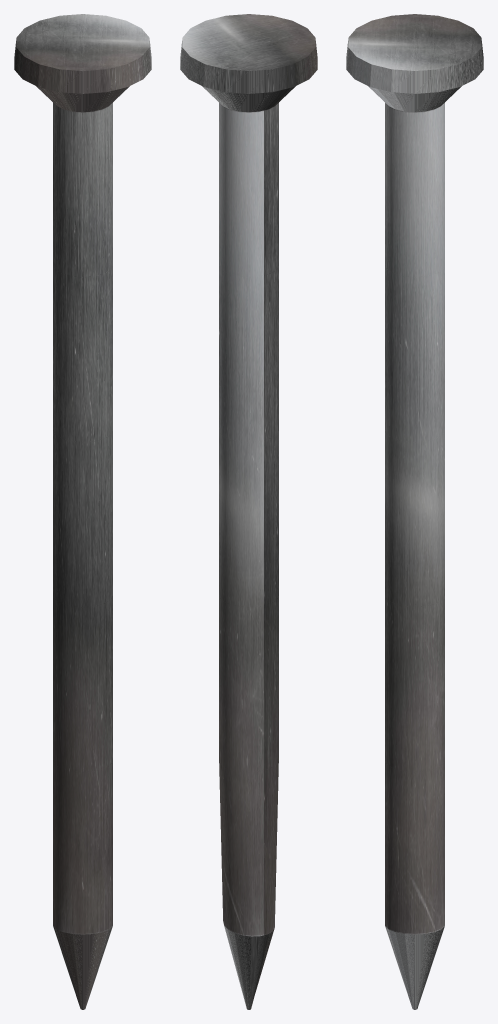
Rendered from Nail_Straight.FBX.
3 renders of one model, left to right at view 1: azimuth 90°, elevation 25°; view 2: azimuth 210°, elevation 25°; view 3: azimuth 270°, elevation 25°, orthographic.
Visible parts, largest first — view 1: nail; view 2: nail; view 3: nail.
Boxes of the visible parts, x1,y1,x2,y2 form: nail: (14,14,151,1009); nail: (180,14,317,1009); nail: (346,14,483,1009).
Size of the model in its own units: 4.61 by 35.15 by 4.54.
1 material, 1 textured.
